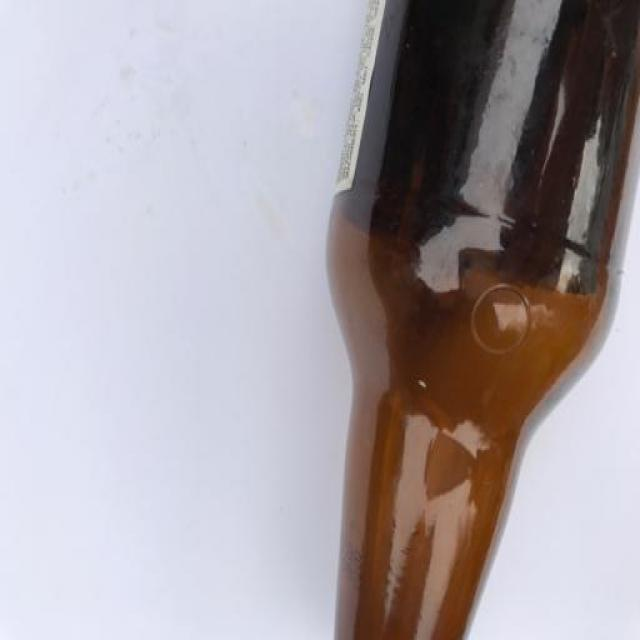glass: (324, 0, 640, 640)
